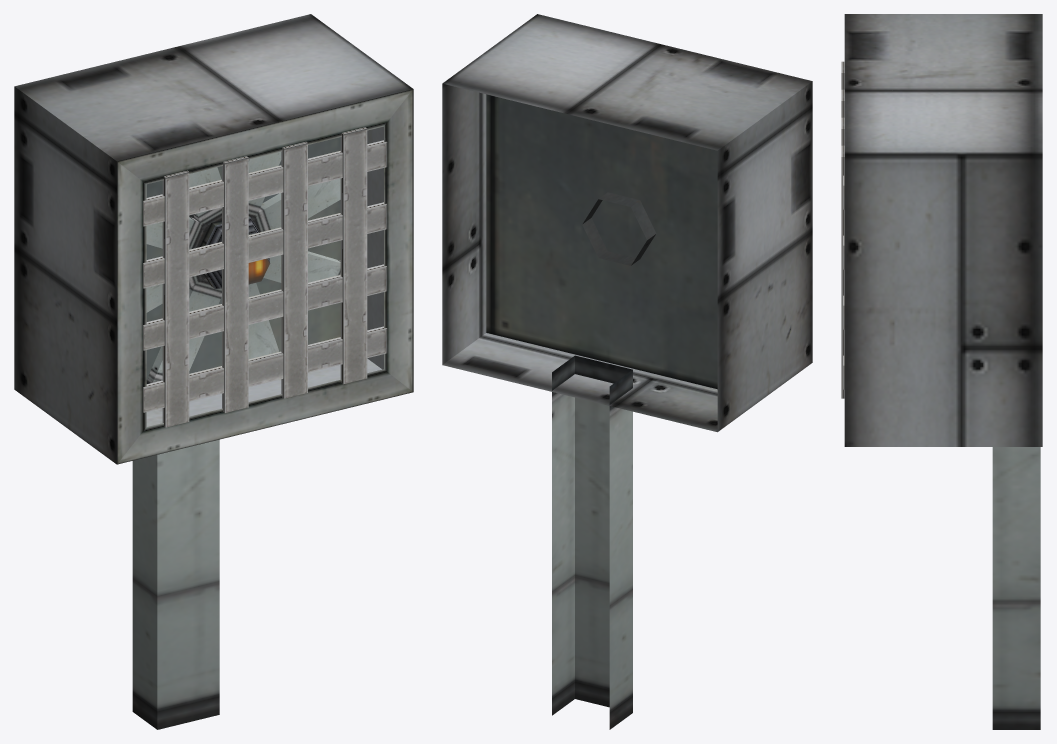
File: ventiladorparede.fbx
3 views of the same model, side by side, from view 1: azimuth 30°, elevation 25°; view 2: azimuth 150°, elevation 25°; view 3: azimuth 270°, elevation 25° (orthographic). The views are drawn at different scales.
Visible parts, largest first — view 1: Cylinder, Cylinder.003; view 2: Cylinder; view 3: Cylinder.
Boxes of the visible parts, x1,y1,x2,y2 form: Cylinder: (14,14,413,729); Cylinder.003: (146,151,340,383); Cylinder: (442,14,812,729); Cylinder: (841,14,1042,729).
Size of the model in its own units: 0.975 by 2.05 by 0.5932.
